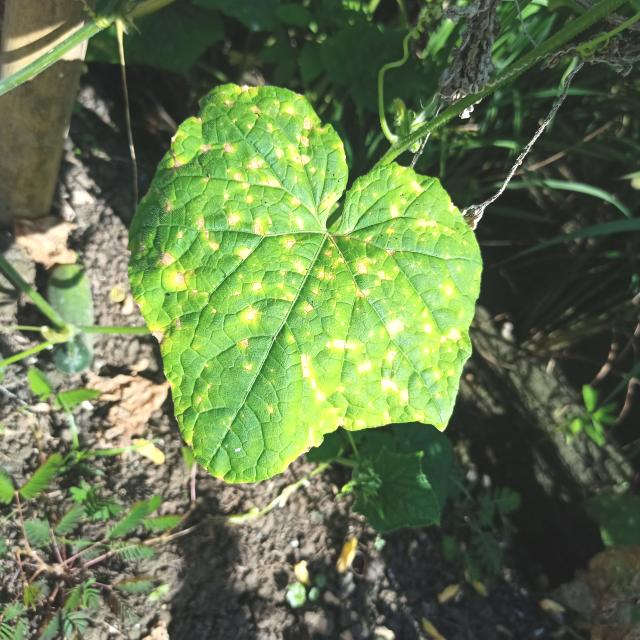disease_cucumber: (140, 85, 464, 453)
